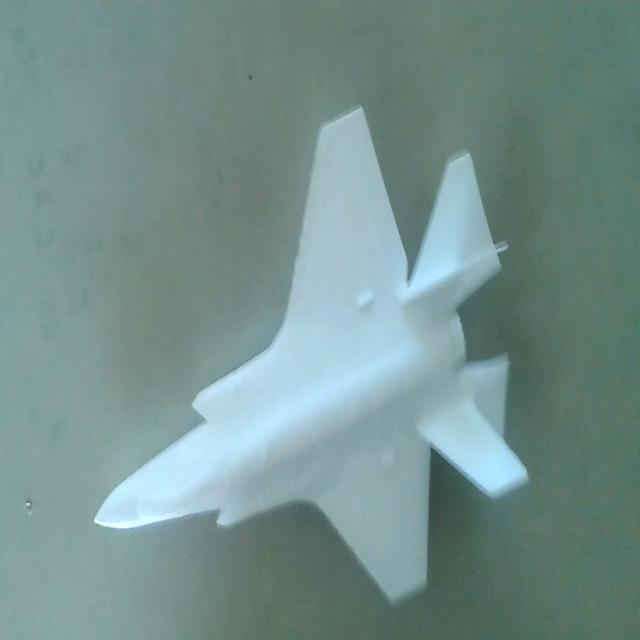Jet: (90, 101, 530, 614)
